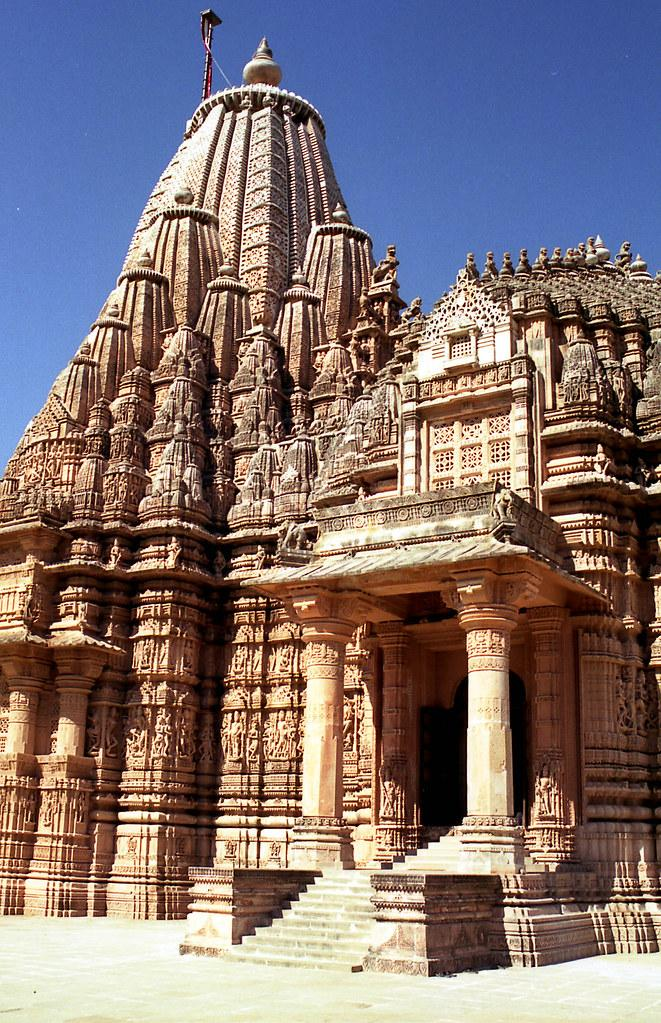temple: (2, 10, 660, 977)
